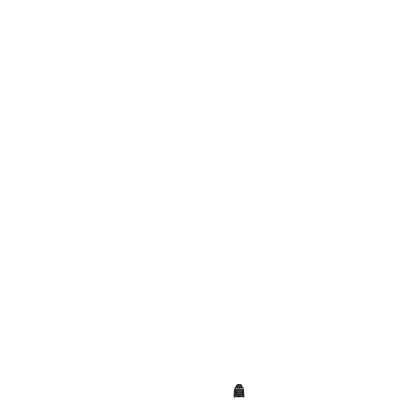Coat: (232, 384, 246, 398)
